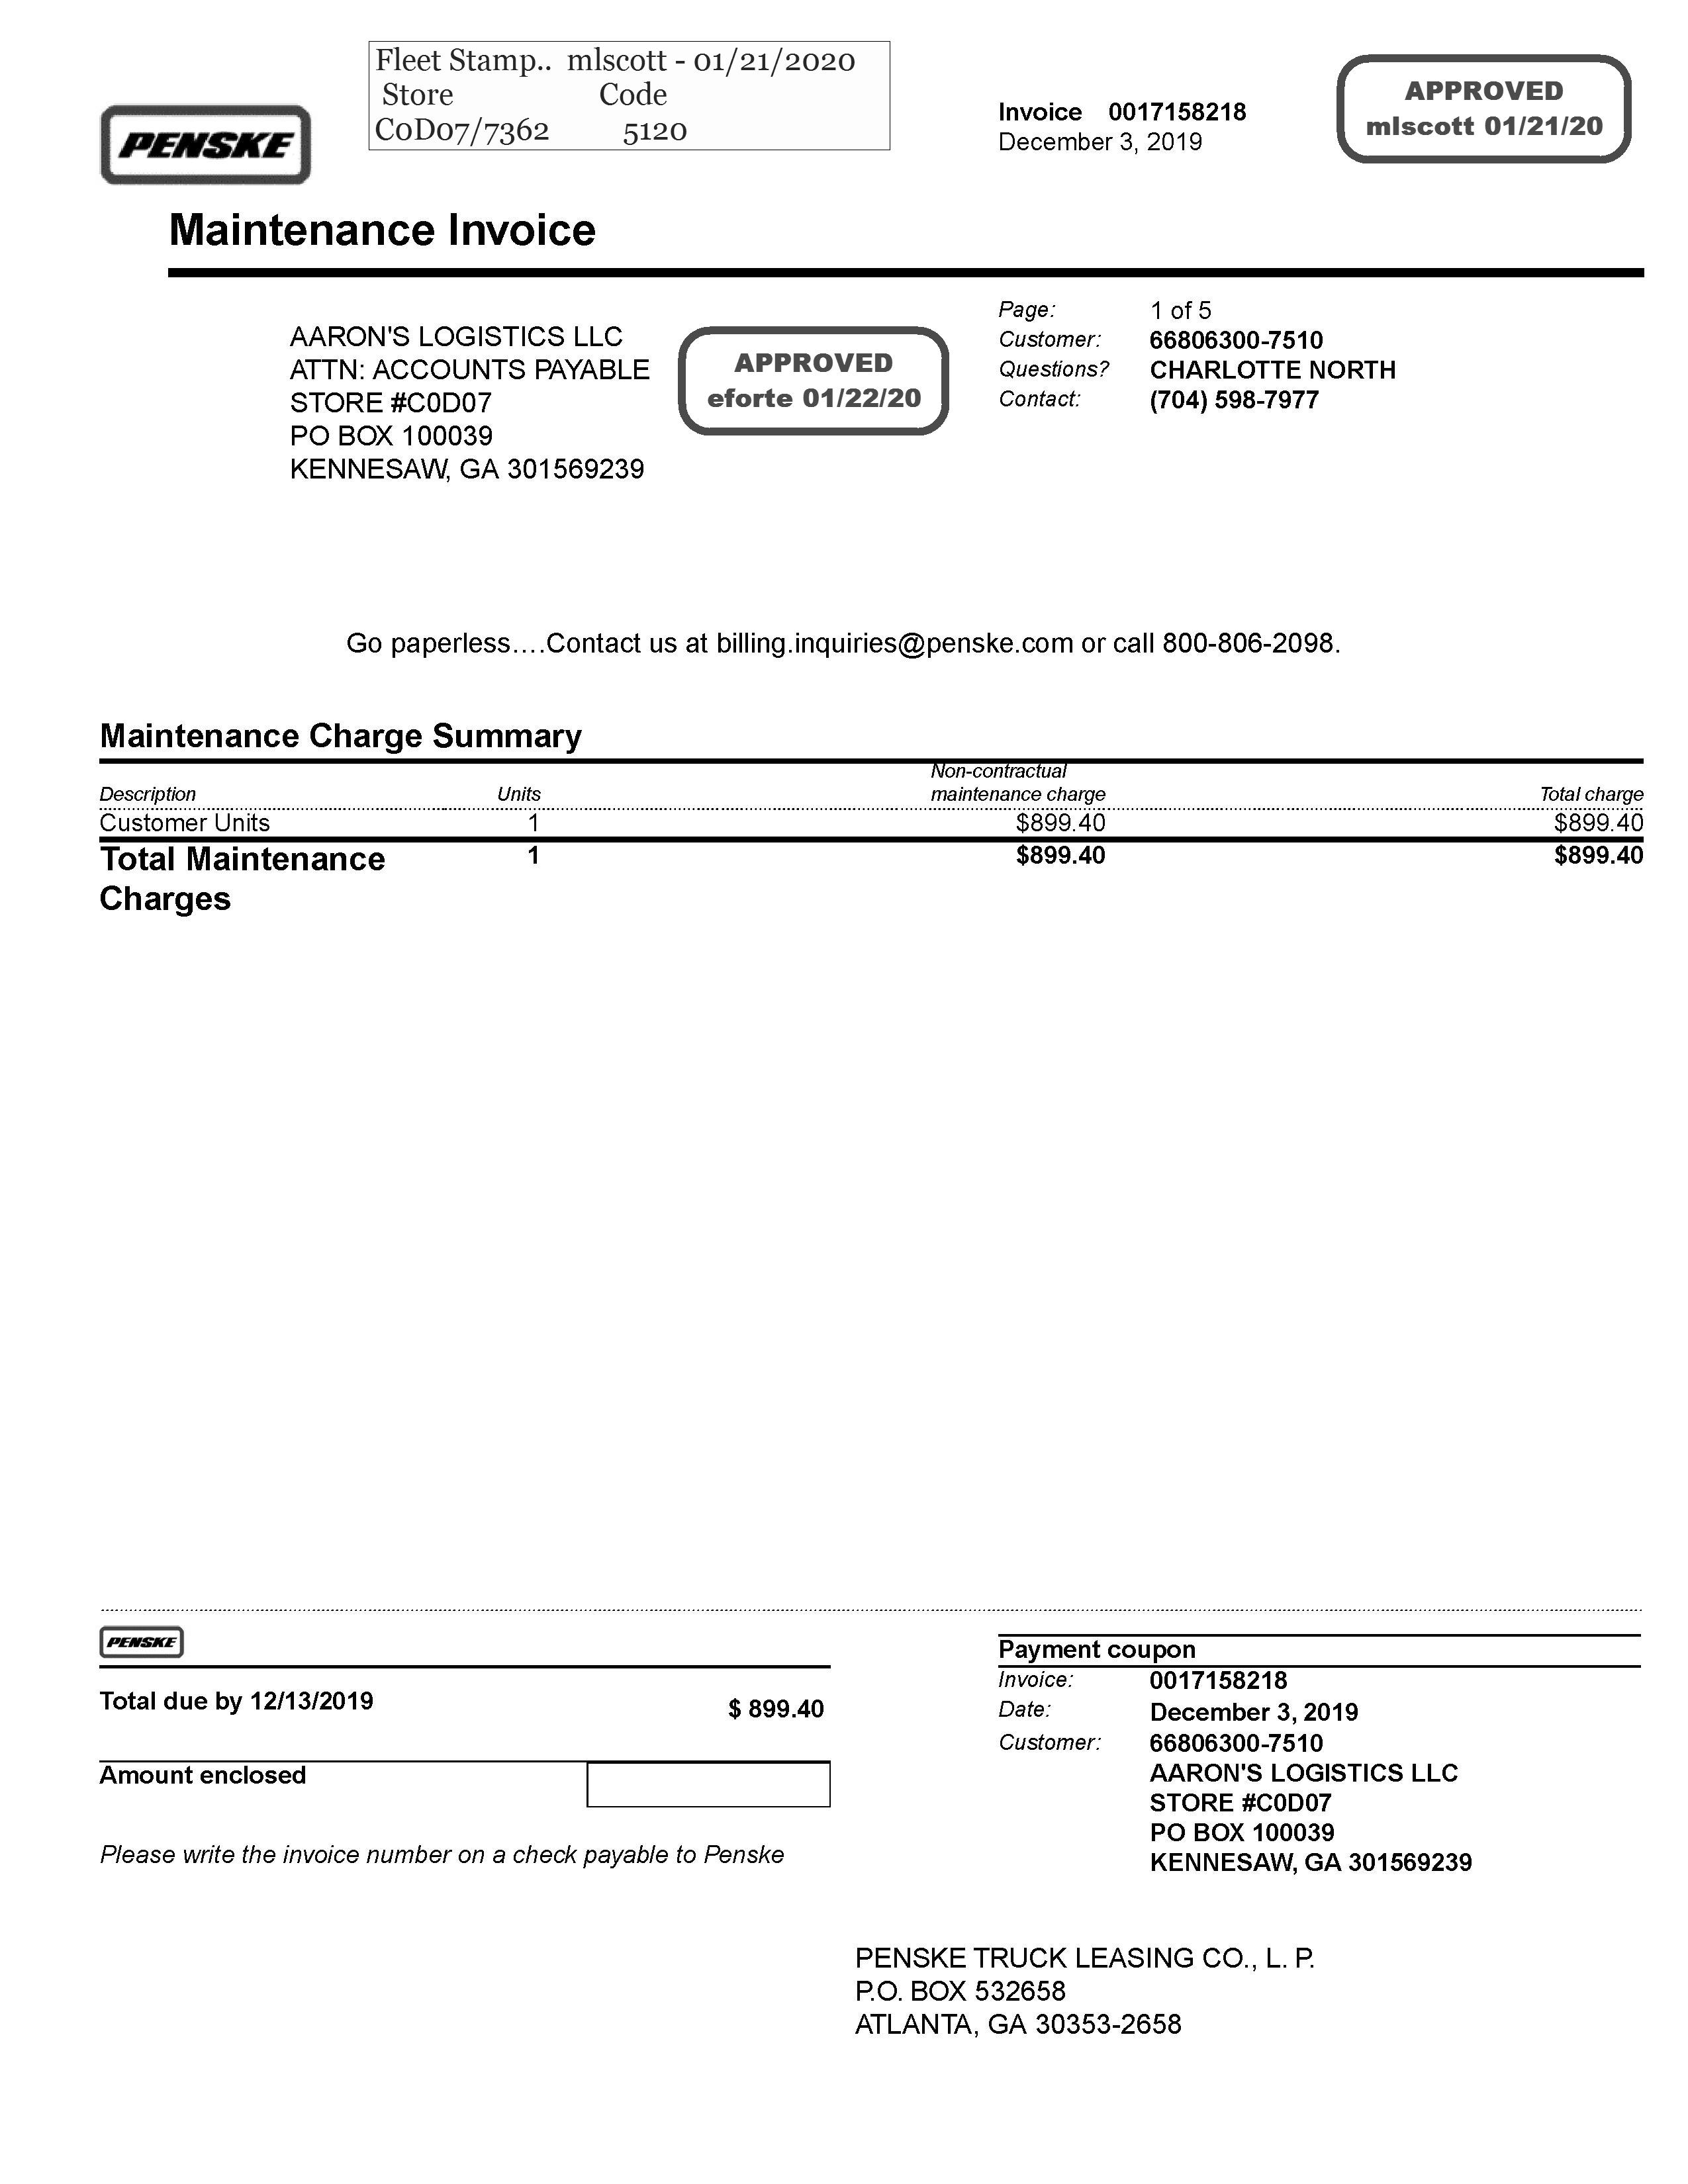B_Paragraph: (1004, 1627, 1502, 1888), (277, 308, 663, 493), (348, 28, 872, 156), (993, 291, 1408, 434), (330, 615, 1356, 668), (860, 1938, 1333, 2051), (96, 1686, 835, 1730), (106, 1838, 787, 1877), (1353, 67, 1619, 161), (982, 85, 1252, 170), (700, 337, 929, 429), (94, 1760, 356, 1801)
B_SubTitle: (101, 706, 598, 757)
B_Table: (99, 760, 1653, 925)
B_Title: (161, 197, 603, 253), (89, 105, 310, 177)
